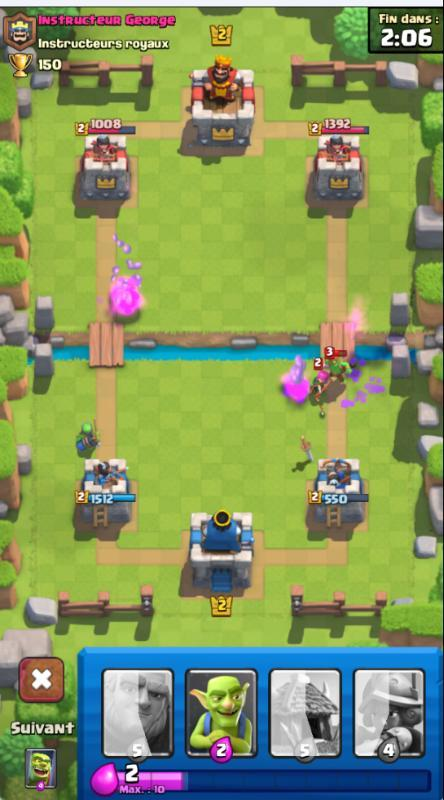enemy_archers: (307, 358, 334, 404)
enemy_spear_goblins: (325, 345, 353, 383)
player_spear_goblins: (71, 411, 104, 456)
